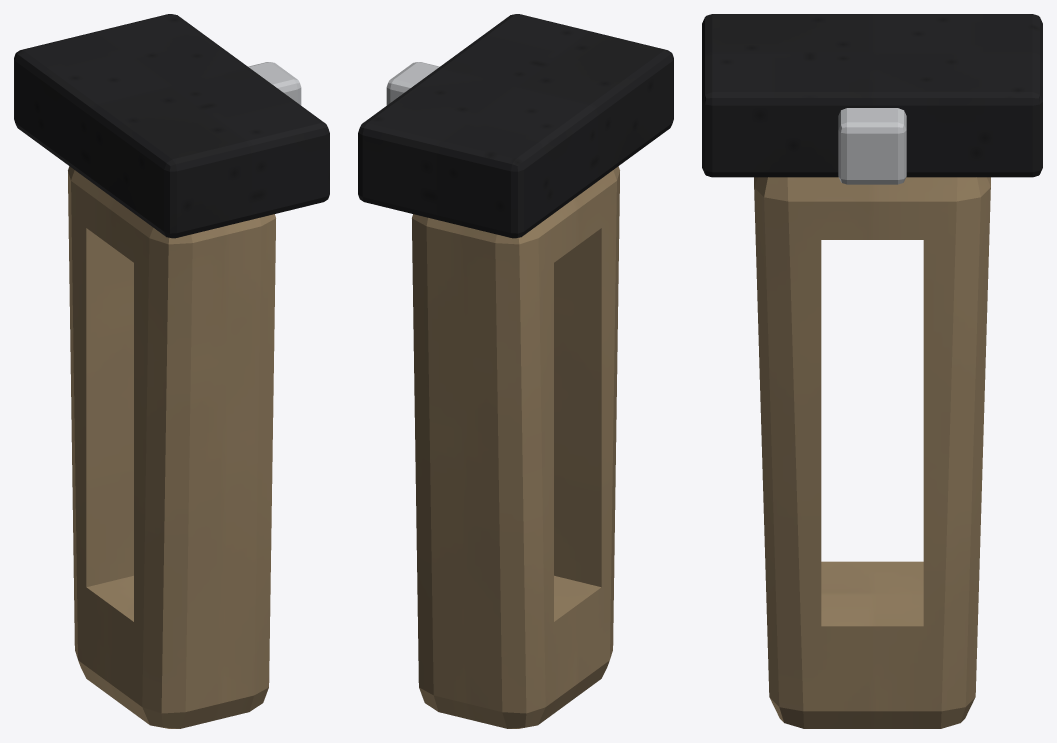
Rendered from grip_light.glb.
The picture shows the model from 3 angles, left to right: view 1: azimuth 30°, elevation 25°; view 2: azimuth 150°, elevation 25°; view 3: azimuth 270°, elevation 25°; orthographic projection. The views are drawn at different scales.
Parts seen in each view (by area): view 1: post, g_clamp, g_screw; view 2: post, g_clamp, g_screw; view 3: post, g_clamp, g_screw.
Part boxes in pixels (bbox=[...]): post: bbox=[68, 166, 275, 728]; g_clamp: bbox=[14, 14, 329, 238]; g_screw: bbox=[248, 62, 301, 105]; post: bbox=[412, 166, 619, 728]; g_clamp: bbox=[358, 14, 673, 238]; g_screw: bbox=[386, 62, 439, 105]; post: bbox=[754, 177, 990, 728]; g_clamp: bbox=[702, 14, 1042, 177]; g_screw: bbox=[838, 108, 906, 184].
Size of the model in its own units: 0.029 by 0.085 by 0.04.
Materials: 3 (2 with a texture image).
